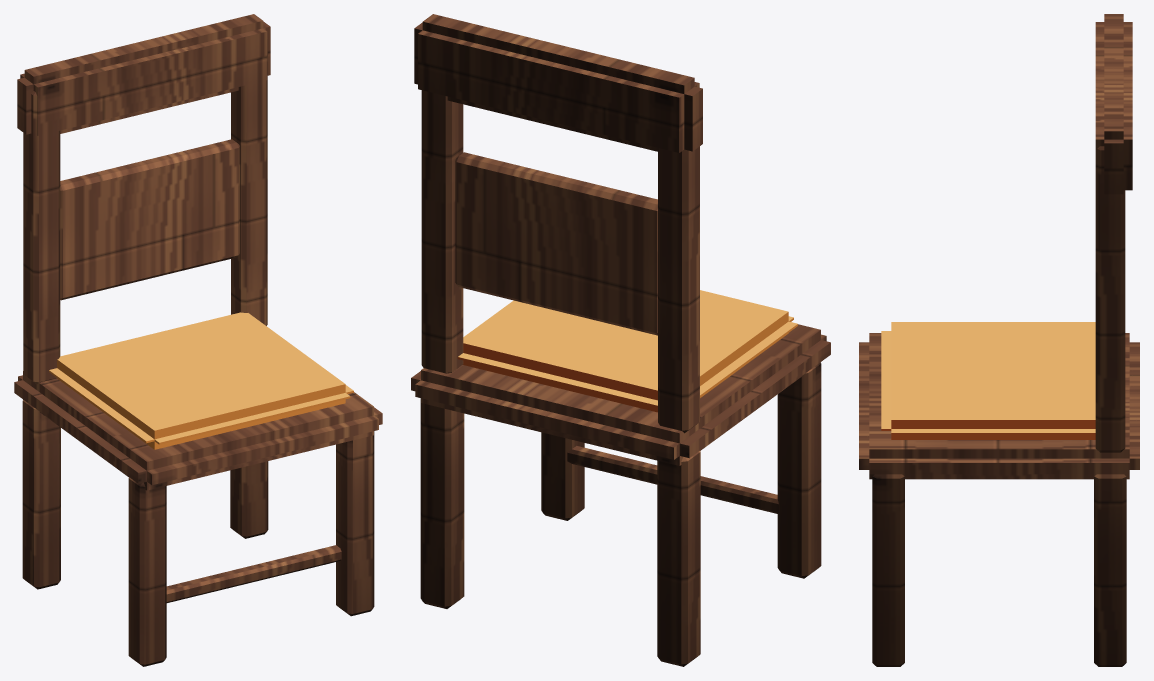
Rendered from chair.glb.
The picture shows the model from 3 angles, left to right: view 1: azimuth 30°, elevation 25°; view 2: azimuth 150°, elevation 25°; view 3: azimuth 270°, elevation 25°; orthographic projection. The views are drawn at different scales.
Visible parts, largest first — view 1: chair; view 2: chair; view 3: chair.
Part boxes in pixels (<box>): chair: <box>14,14,382,666</box>; chair: <box>411,14,830,666</box>; chair: <box>859,14,1139,666</box>.
Bounding box in the file's own units: 0.4 × 0.802 × 0.38.
4 materials, 4 textured.
